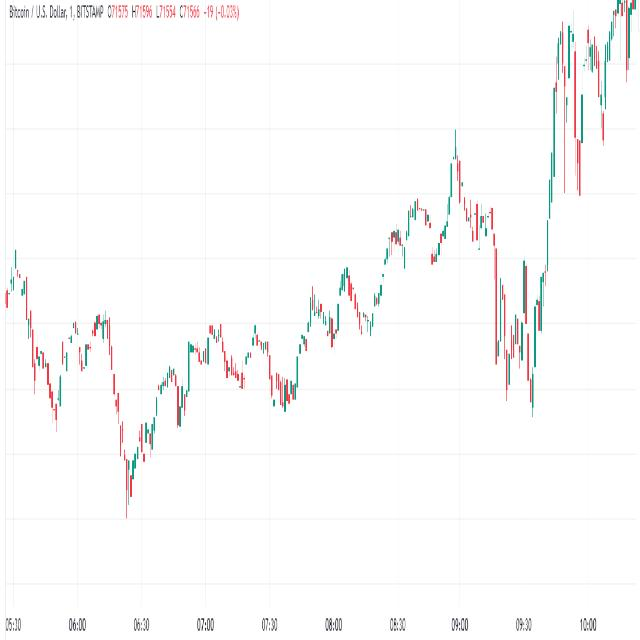Rounding-Bottom: (12, 194, 425, 532)
